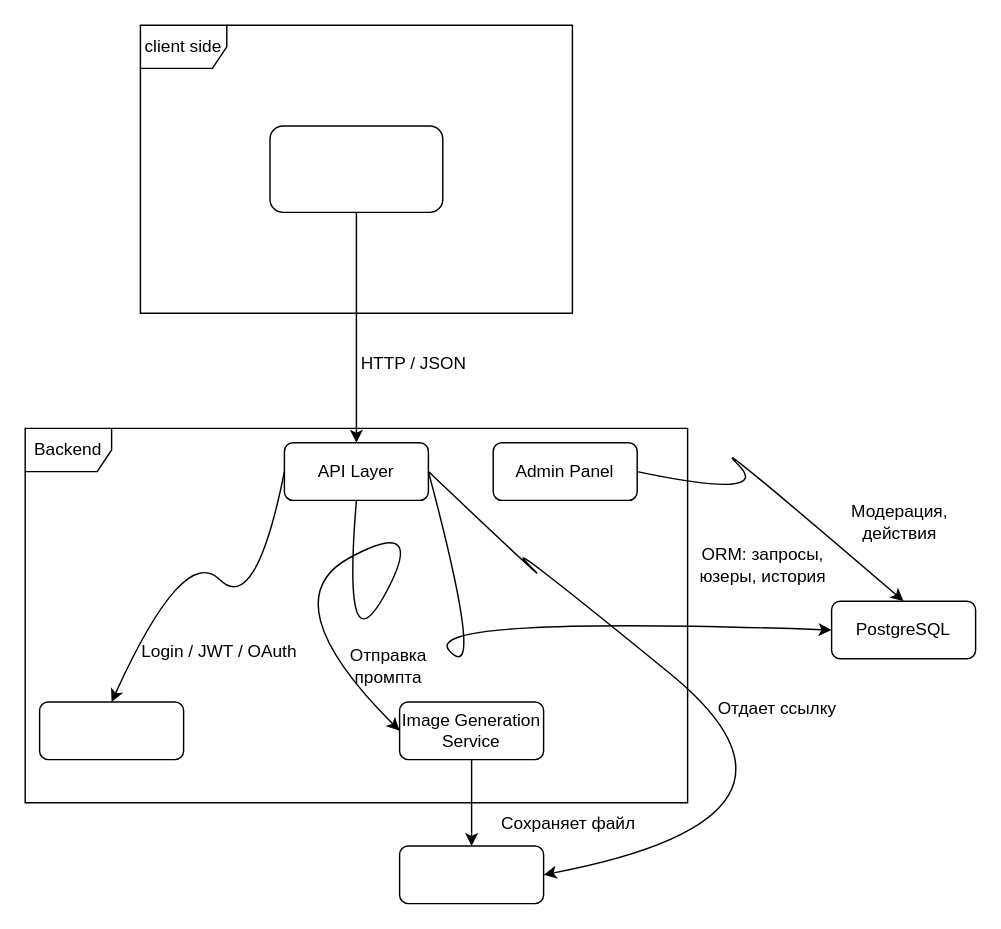
This 1001x929 diagram has some shape labels left out. The centre of each missing label's shape, as x and y in pixels:
Auth Service: [111,730]
Image Storage: [471,874]
Web / Mobile Client: [356,168]
